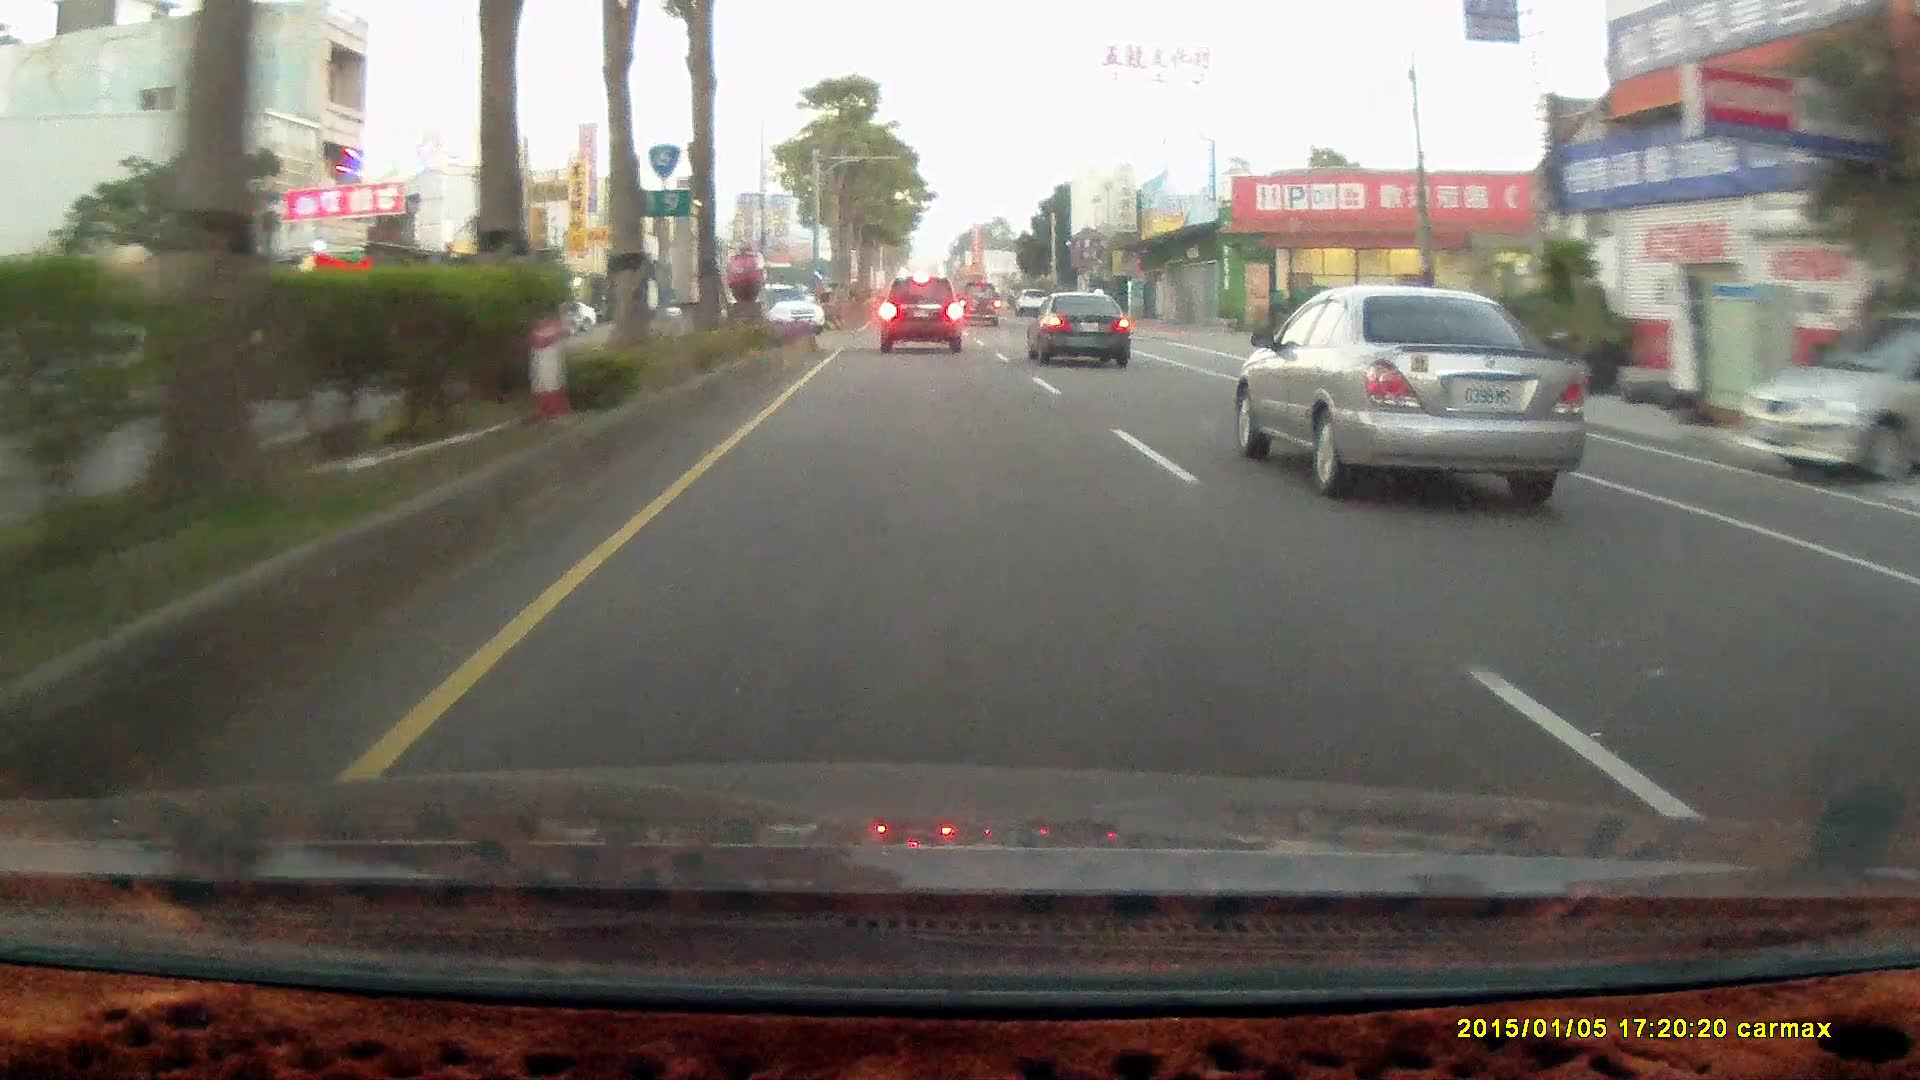vehicle: (1238, 289, 1581, 504), (1747, 313, 1920, 491), (1747, 313, 1920, 489), (1027, 287, 1135, 368), (1025, 286, 1129, 364), (880, 273, 968, 357), (878, 272, 959, 349), (764, 284, 827, 340), (762, 284, 825, 339), (955, 277, 1002, 324)
